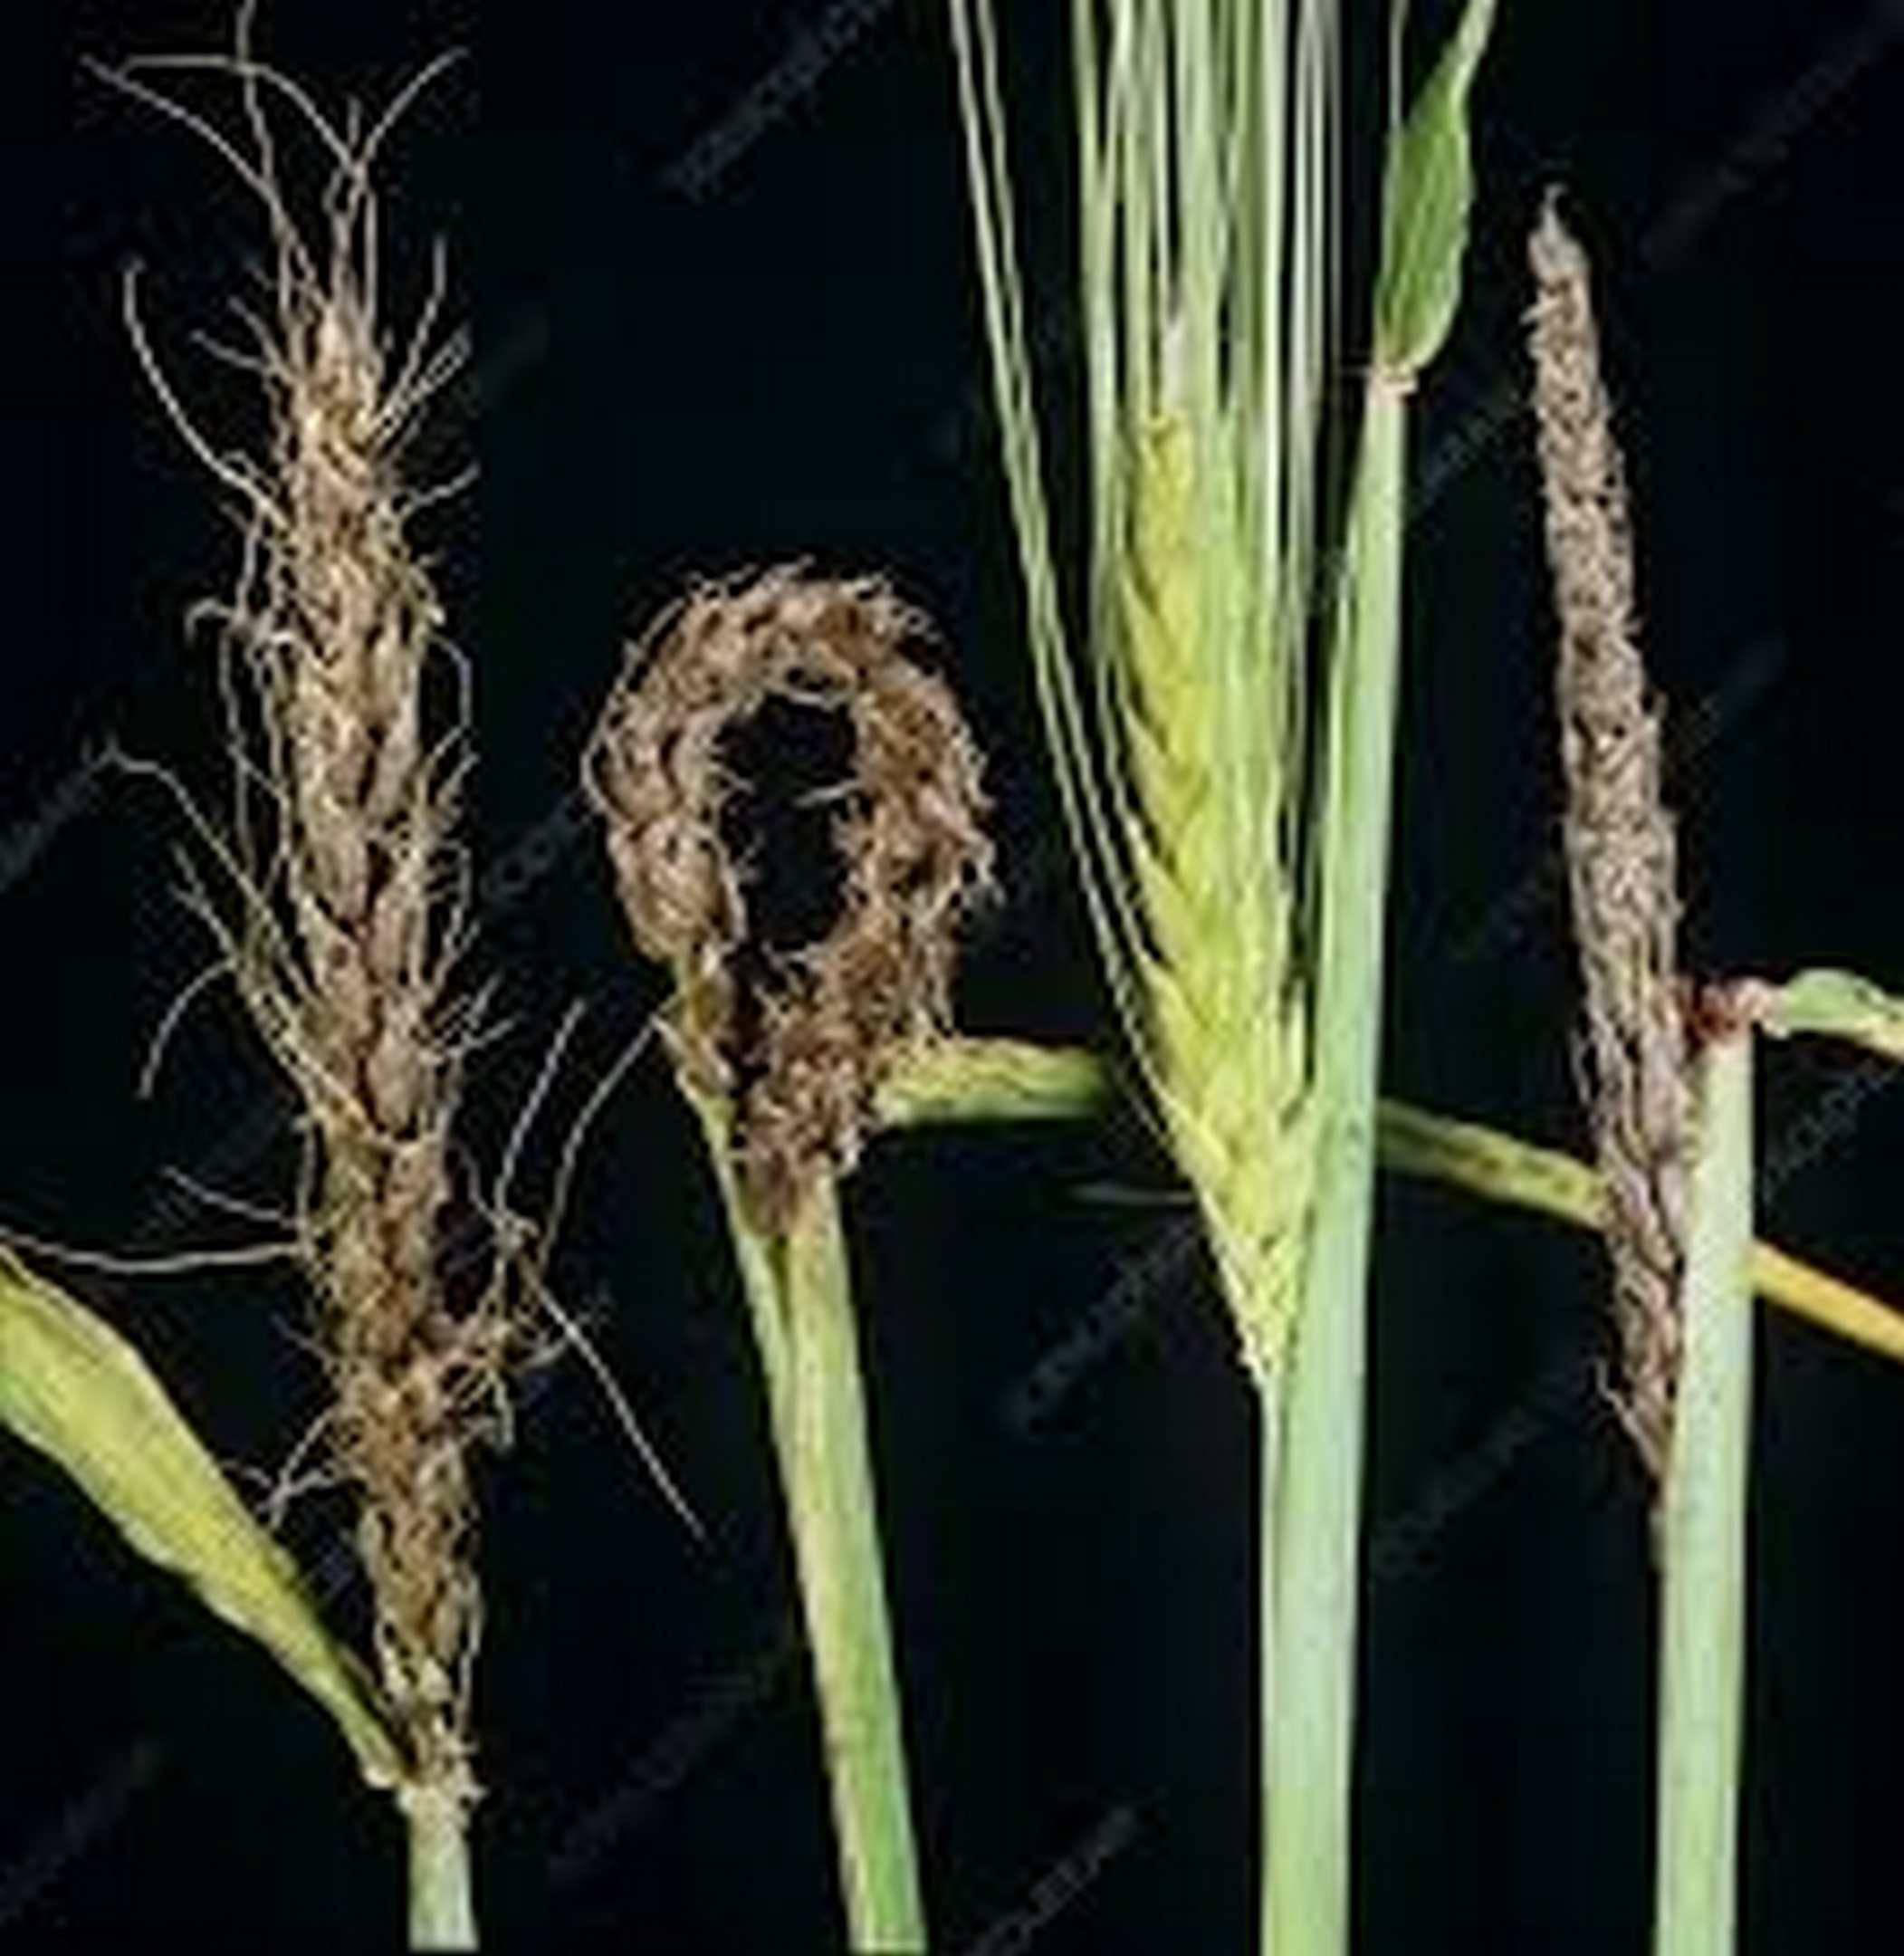Wheat Loose Smut: (180, 257, 592, 1675)
